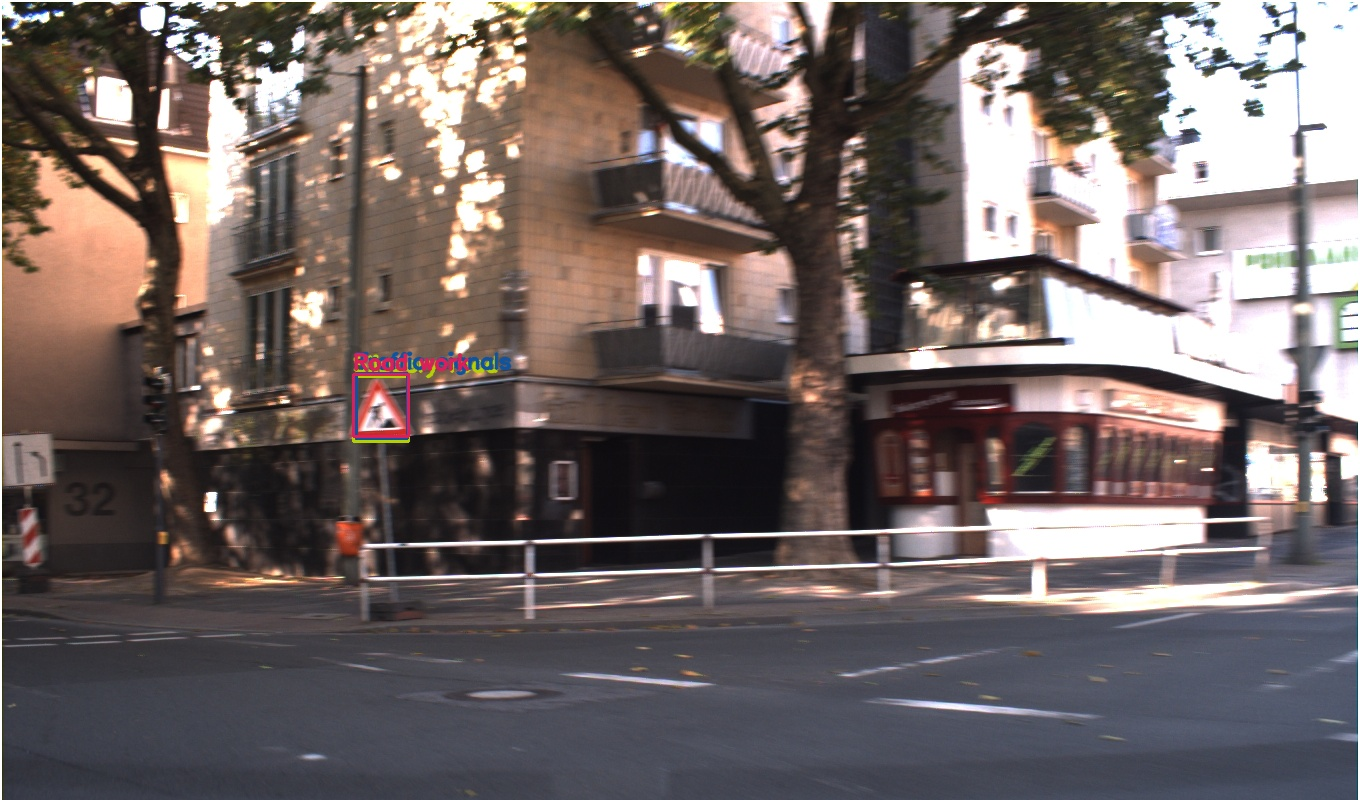Keep right: (341, 523, 380, 562)
Roundabout mandatory: (780, 443, 811, 474)
Yield: (771, 405, 815, 443)
